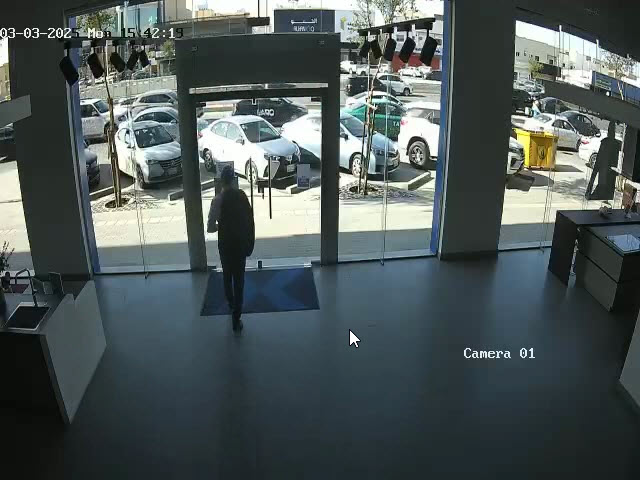male: (207, 165, 256, 330)
